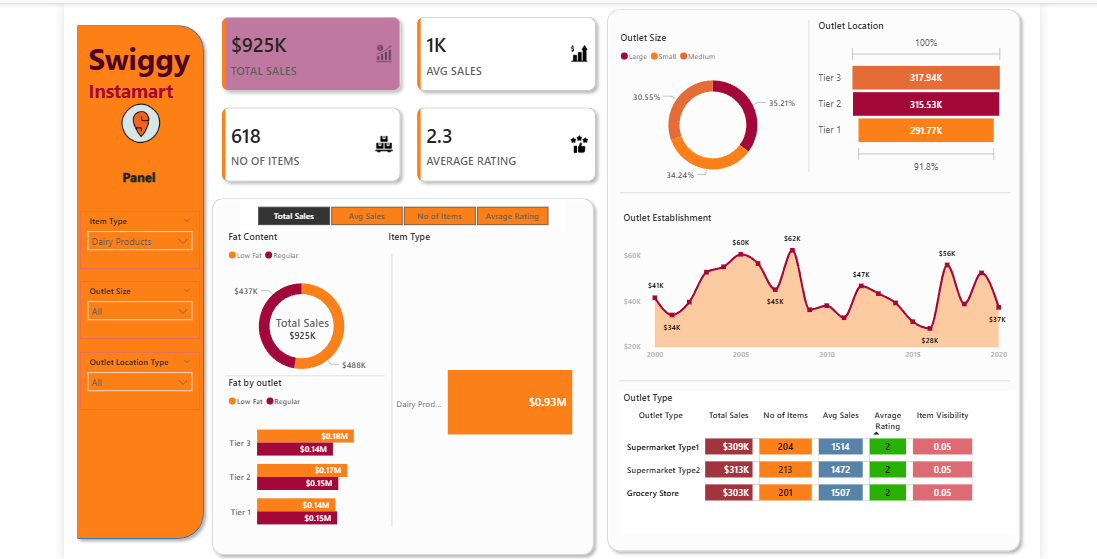

Layout of this report page (visuals, bound fields, positions):
{"tool":"powerbi","page":{"name":"Page 1","canvas":[1400,800],"ordinal":0},"visuals":[{"type":"shape","box":[10,22.9,199.3,754.1],"z":0},{"type":"textbox","box":[29.4,39.2,170.6,139.2],"z":1000},{"type":"textbox","box":[204,172,6,12],"z":2000},{"type":"cardVisual","fields":{"Data":["swiggy_instamart_data.Total Sales","swiggy_instamart_data.Avg Sales","swiggy_instamart_data.No of Items","swiggy_instamart_data.Avrage Rating"]},"box":[210,3.3,570,270],"z":3000},{"type":"shape","box":[203.9,270.6,564.7,529.4],"z":4000},{"type":"donutChart","title":"Fat Content","fields":{"Y":["swiggy_instamart_data.Total Sales"],"Category":["swiggy_instamart_data.Item Fat Content"]},"box":[231.4,325.5,219.6,231.4],"z":5000},{"type":"slicer","fields":{"Values":["Metrics.Metrics"]},"box":[252,286,466,40],"z":6000},{"type":"cardVisual","fields":{"Data":["swiggy_instamart_data.Total Sales"]},"box":[284.6,430.4,113.6,70.5],"z":7000},{"type":"clusteredBarChart","title":"Fat by outlet","fields":{"Y":["swiggy_instamart_data.Total Sales"],"Category":["swiggy_instamart_data.Outlet Location Type"],"Series":["swiggy_instamart_data.Item Fat Content"]},"box":[231.4,535.3,219.6,239.2],"z":8000},{"type":"shape","box":[231.2,517.5,228.8,33.8],"z":9000},{"type":"shape","box":[440,360,60,391.2],"z":10000},{"type":"barChart","title":"Item Type","fields":{"Y":["swiggy_instamart_data.Total Sales"],"Category":["swiggy_instamart_data.Item Type"]},"box":[460,326,308,474],"z":11000},{"type":"shape","box":[770,0,610,795],"z":12000},{"type":"lineChart","title":" Outlet Establishment ","fields":{"Y":["swiggy_instamart_data.Total Sales"],"Category":["swiggy_instamart_data.Outlet Establishment Year"]},"box":[796.7,298.3,560,223.3],"z":13000},{"type":"donutChart","title":"Outlet Size","fields":{"Category":["swiggy_instamart_data.Outlet Size"],"Y":["swiggy_instamart_data.Total Sales"]},"box":[793.3,40,275,225],"z":14000},{"type":"funnel","title":" Outlet Location ","fields":{"Category":["swiggy_instamart_data.Outlet Location Type"],"Y":["Sum(swiggy_instamart_data.Sales)"]},"box":[1076.7,23.3,275,226.7],"z":15000},{"type":"shape","box":[796.7,250,560,45],"z":16000},{"type":"shape","box":[1038,24,60,218],"z":17000},{"type":"pivotTable","title":"Outlet Type","fields":{"Rows":["swiggy_instamart_data.Outlet Type"],"Values":["swiggy_instamart_data.Total Sales","swiggy_instamart_data.No of Items","swiggy_instamart_data.Avg Sales","swiggy_instamart_data.Avrage Rating","Avg(swiggy_instamart_data.Item Visibility)"]},"box":[796.7,556.7,566.7,203.3],"z":18000},{"type":"shape","box":[795,518.3,560,45],"z":19000},{"type":"slicer","fields":{"Values":["swiggy_instamart_data.Item Type"]},"box":[23.3,298.3,171.7,83.3],"z":20000},{"type":"slicer","fields":{"Values":["swiggy_instamart_data.Outlet Size"]},"box":[23.3,398.3,171.7,83.3],"z":21000},{"type":"slicer","fields":{"Values":["swiggy_instamart_data.Outlet Location Type"]},"box":[23.3,500,171.7,83.3],"z":22000},{"type":"textbox","box":[78.3,231.7,86.7,35],"z":23000},{"type":"image","box":[73.3,136.7,73.3,71.7],"z":24000}]}

Visuals, with their boxes on the page's 1400x800 design canvas (x1, y1, x2, y2). These are canvas units, not pixel positions in the 1097x559 screenshot, which may show the page scaled, cropped or inside an application window:
shape: x1=10, y1=23, x2=209, y2=777
textbox: x1=29, y1=39, x2=200, y2=178
textbox: x1=204, y1=172, x2=210, y2=184
cardVisual - swiggy_instamart_data.Total Sales x swiggy_instamart_data.Avg Sales: x1=210, y1=3, x2=780, y2=273
shape: x1=204, y1=271, x2=769, y2=800
"Fat Content" donutChart: x1=231, y1=326, x2=451, y2=557
slicer - Metrics.Metrics: x1=252, y1=286, x2=718, y2=326
cardVisual - swiggy_instamart_data.Total Sales: x1=285, y1=430, x2=398, y2=501
"Fat by outlet" clusteredBarChart: x1=231, y1=535, x2=451, y2=774
shape: x1=231, y1=518, x2=460, y2=551
shape: x1=440, y1=360, x2=500, y2=751
"Item Type" barChart: x1=460, y1=326, x2=768, y2=800
shape: x1=770, y1=0, x2=1380, y2=795
" Outlet Establishment " lineChart: x1=797, y1=298, x2=1357, y2=522
"Outlet Size" donutChart: x1=793, y1=40, x2=1068, y2=265
" Outlet Location " funnel: x1=1077, y1=23, x2=1352, y2=250
shape: x1=797, y1=250, x2=1357, y2=295
shape: x1=1038, y1=24, x2=1098, y2=242
"Outlet Type" pivotTable: x1=797, y1=557, x2=1363, y2=760
shape: x1=795, y1=518, x2=1355, y2=563
slicer - swiggy_instamart_data.Item Type: x1=23, y1=298, x2=195, y2=382
slicer - swiggy_instamart_data.Outlet Size: x1=23, y1=398, x2=195, y2=482
slicer - swiggy_instamart_data.Outlet Location Type: x1=23, y1=500, x2=195, y2=583
textbox: x1=78, y1=232, x2=165, y2=267
image: x1=73, y1=137, x2=147, y2=208
